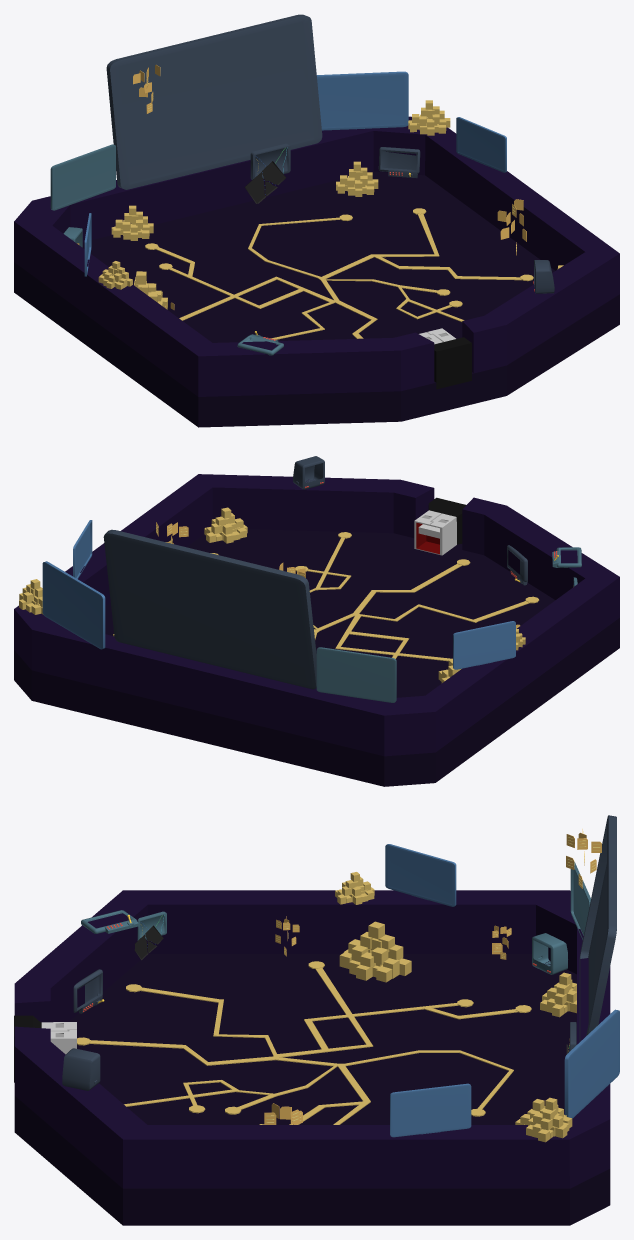
File: Boss_s room authentication (clean).fbx
3 views of the same model, one above another, from view 1: azimuth 30°, elevation 25°; view 2: azimuth 150°, elevation 25°; view 3: azimuth 270°, elevation 25° (orthographic). The views are drawn at different scales.
Parts seen in each view (by area): view 1: Cube.106, Cube.115, Cube.125, Cube.157, Cube.122, Cube.113, Cube.129, Cube.147, Cube.143, Cube.138, Cube.137, Cube.136 (+3 smaller); view 2: Cube.106, Cube.115, Cube.122, Cube.125, Cube.157, Cube.134, Cube.113, Cube.150, Cube.152, Cube.129, Cube.138; view 3: Cube.106, Cube.157, Cube.115, Cube.125, Cube.129, Cube.134, Cube.120, Cube.152, Cube.138, Cube.145, Cube.113, Cube.136 (+7 smaller).
Part boxes in pixels (box(x1,y1,x2,y2)): Cube.106: box(14, 116, 619, 427); Cube.115: box(106, 14, 322, 189); Cube.125: box(316, 71, 408, 130); Cube.157: box(155, 213, 521, 339); Cube.122: box(50, 144, 115, 210); Cube.113: box(419, 328, 471, 389); Cube.129: box(456, 117, 506, 172); Cube.147: box(244, 143, 290, 203); Cube.143: box(378, 147, 420, 178); Cube.138: box(408, 100, 450, 135); Cube.137: box(336, 161, 378, 196); Cube.136: box(111, 205, 153, 240); Cube.106: box(14, 474, 619, 786); Cube.115: box(103, 529, 316, 689); Cube.122: box(316, 647, 396, 702); Cube.125: box(42, 561, 105, 649); Cube.157: box(307, 537, 529, 661); Cube.134: box(453, 621, 515, 669); Cube.113: box(414, 497, 465, 555); Cube.150: box(204, 507, 247, 543); Cube.152: box(293, 456, 324, 489); Cube.129: box(73, 520, 92, 578); Cube.138: box(19, 579, 43, 614); Cube.106: box(14, 890, 610, 1225); Cube.157: box(89, 967, 518, 1124); Cube.115: box(579, 815, 616, 1041); Cube.125: box(564, 1009, 619, 1118); Cube.129: box(390, 1083, 471, 1137); Cube.134: box(385, 844, 456, 906); Cube.120: box(339, 921, 411, 982); Cube.152: box(62, 1048, 100, 1090); Cube.138: box(526, 1097, 572, 1142); Cube.145: box(532, 933, 567, 974); Cube.113: box(14, 1015, 76, 1082); Cube.136: box(540, 972, 576, 1017).
Bounding box in the file's own units: 4785 × 2021 × 4806.
